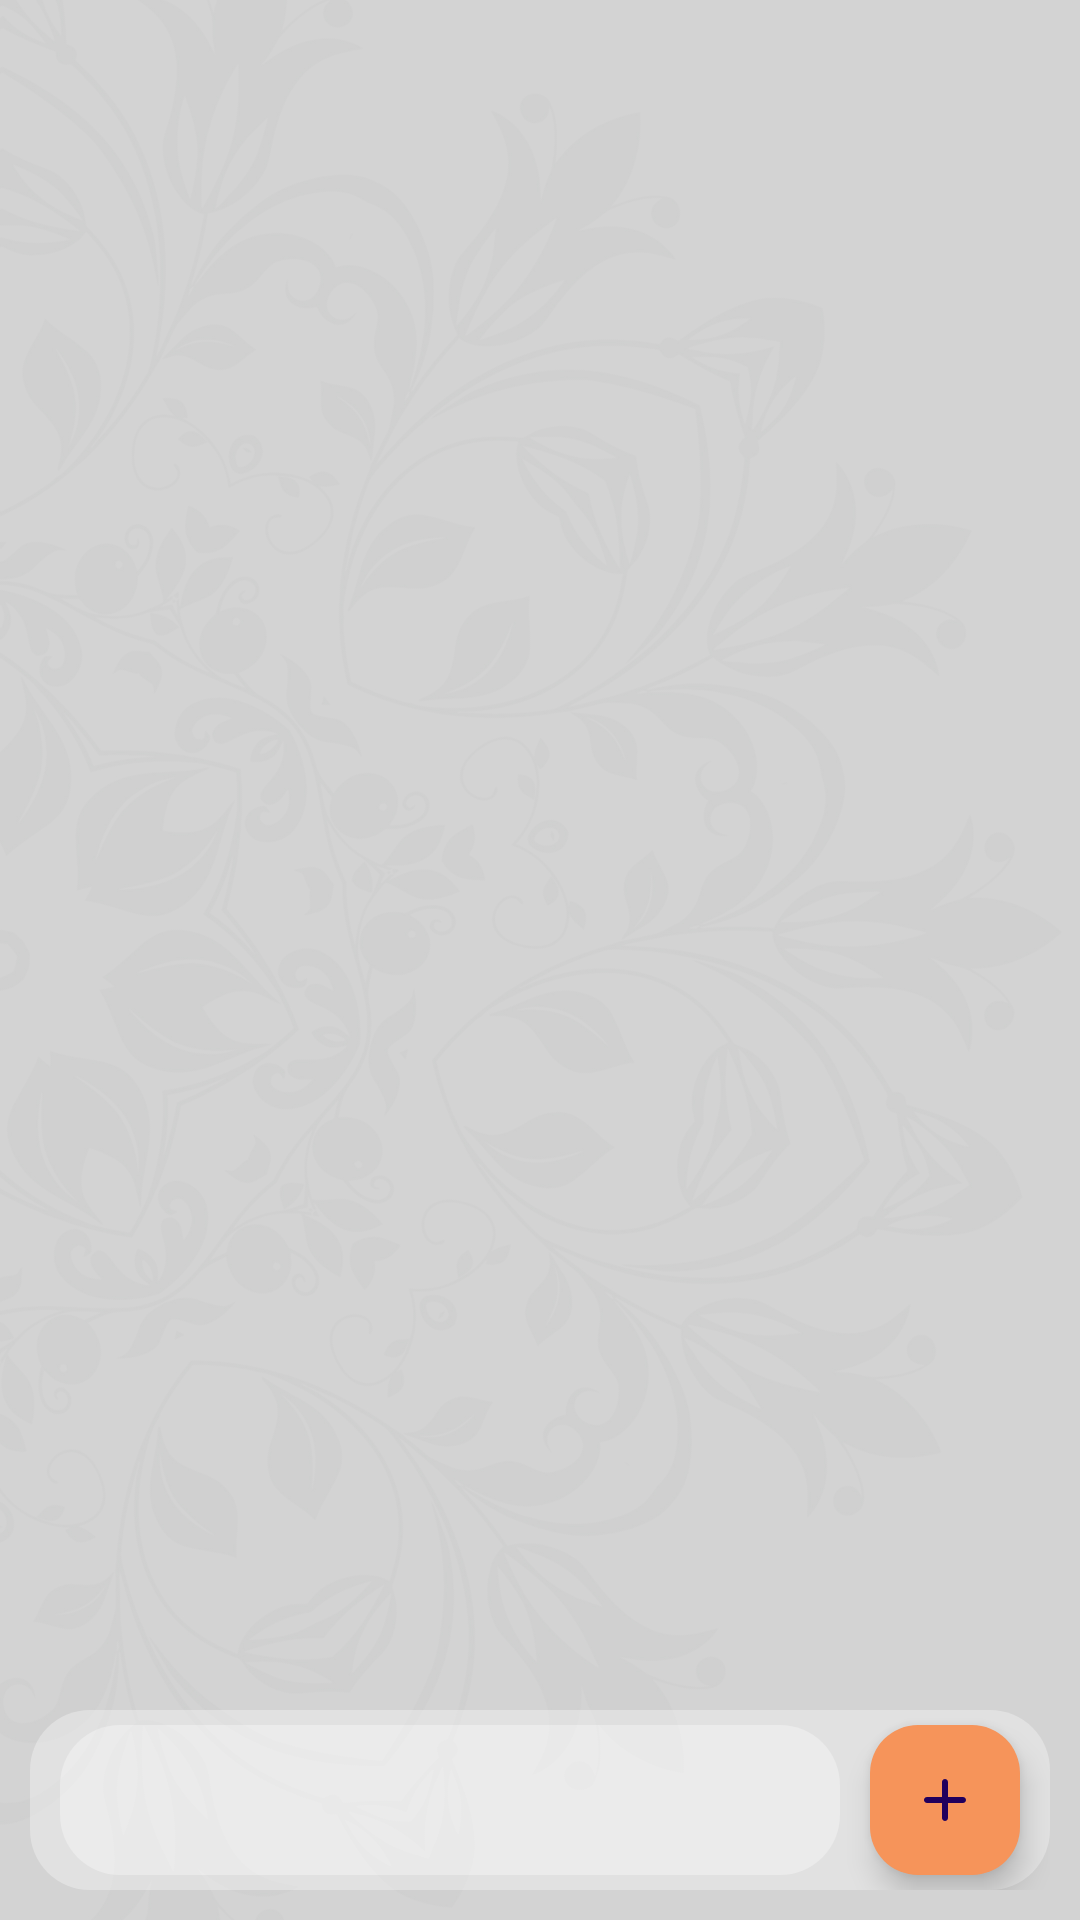

Screen size 1080 x 1920. Icon name, then its center in pixels as (x,y):
list add: (945,1800)
